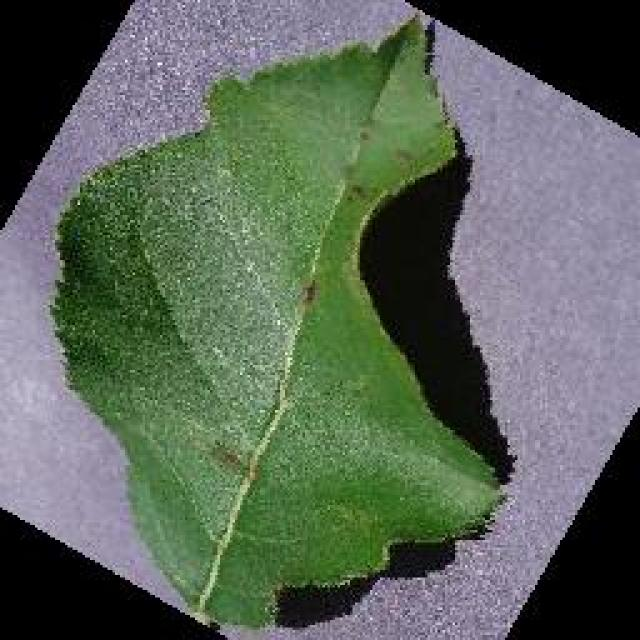apple scab disease: (45, 10, 513, 630)
